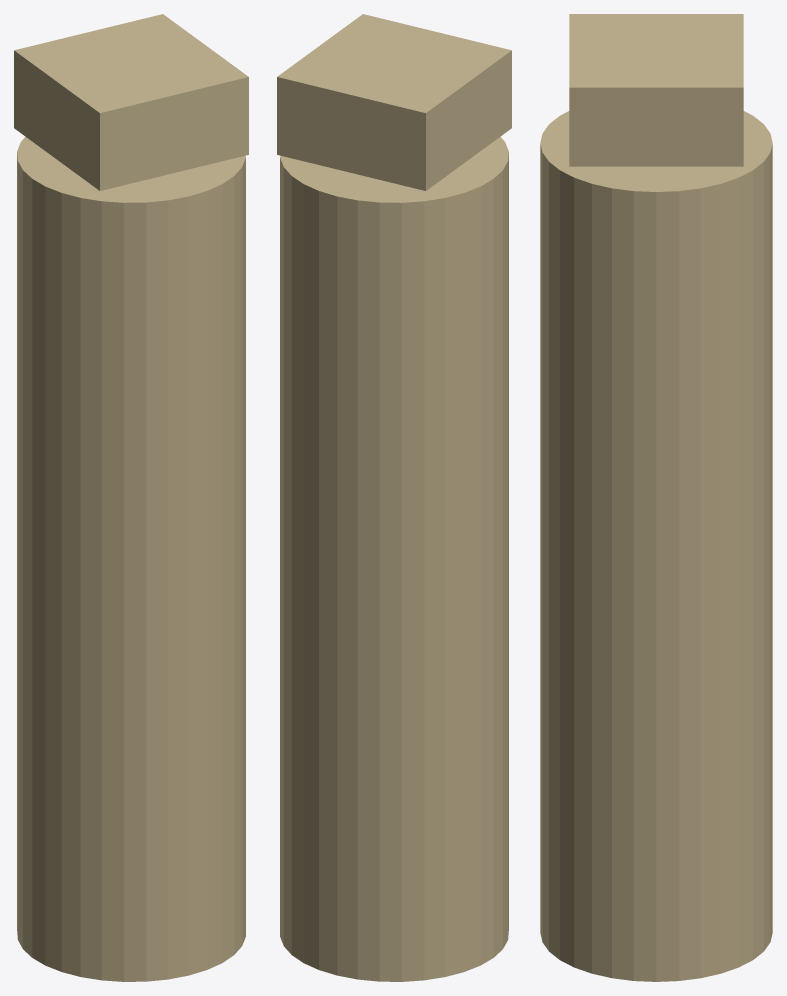
Rendered from stone_pillar.glb.
3 views of the same model, side by side, from view 1: azimuth 30°, elevation 25°; view 2: azimuth 150°, elevation 25°; view 3: azimuth 270°, elevation 25° (orthographic).
Visible parts, largest first — view 1: Stone_Pillar; view 2: Stone_Pillar; view 3: Stone_Pillar.
Boxes of the visible parts, x1,y1,x2,y2 form: Stone_Pillar: [14, 14, 248, 981]; Stone_Pillar: [277, 14, 511, 981]; Stone_Pillar: [540, 14, 772, 981].
Size of the model in its own units: 0.8 by 3.35 by 0.8.
